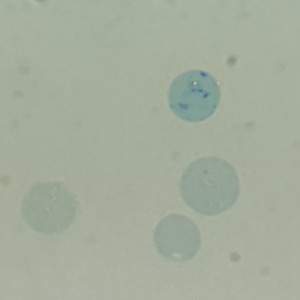aggregate reticulocyte: (167, 69, 222, 124)
erythrocyte: (19, 181, 79, 235), (152, 212, 203, 264)
punctate reticulocyte: (178, 155, 242, 217)
